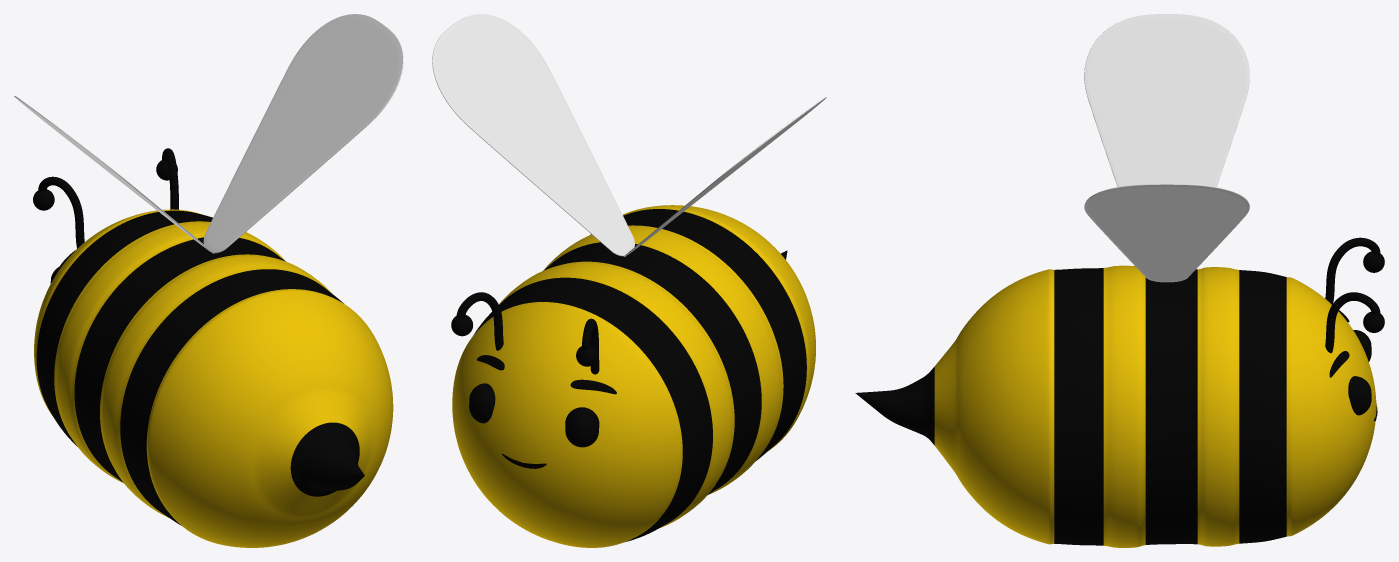
File: bee.glb
The picture shows the model from 3 angles, left to right: view 1: azimuth 30°, elevation 25°; view 2: azimuth 150°, elevation 25°; view 3: azimuth 270°, elevation 25°; orthographic projection.
Parts seen in each view (by area): view 1: Plane.001, kanat, kanat.001; view 2: Plane.001, kanat, kanat.001; view 3: Plane.001, kanat.001, kanat.
Part boxes in pixels (box(x1,y1,x2,y2)): Plane.001: box(33, 148, 393, 547); kanat: box(203, 14, 403, 253); kanat.001: box(14, 96, 214, 253); Plane.001: box(451, 205, 815, 547); kanat: box(432, 14, 634, 256); kanat.001: box(624, 97, 826, 256); Plane.001: box(855, 237, 1384, 547); kanat.001: box(1084, 14, 1249, 282); kanat: box(1084, 184, 1249, 282).
Size of the model in its own units: 2.82 by 3.37 by 3.71.
